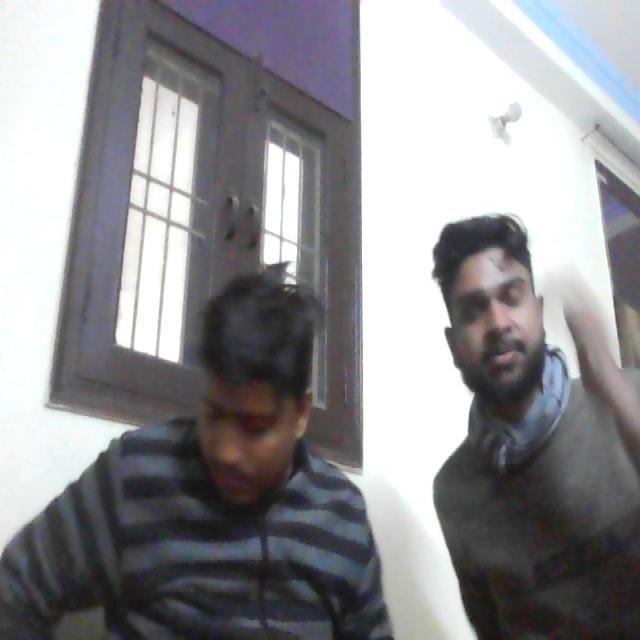real: (444, 204, 546, 396)
